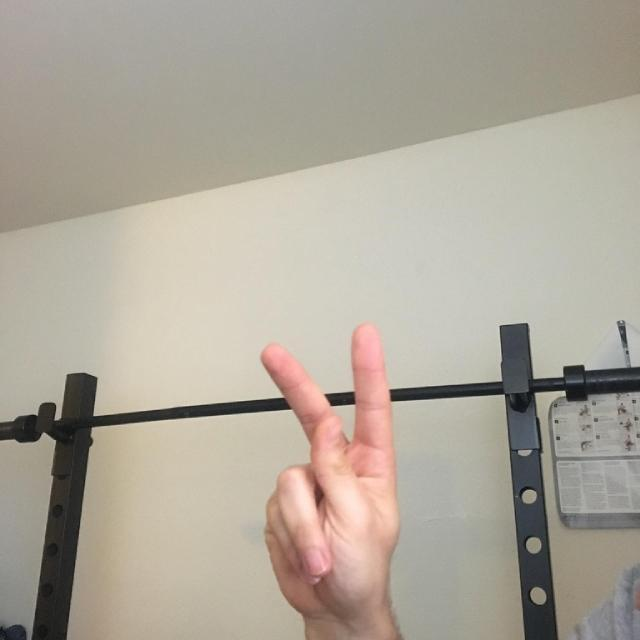K: (210, 312, 482, 640)
